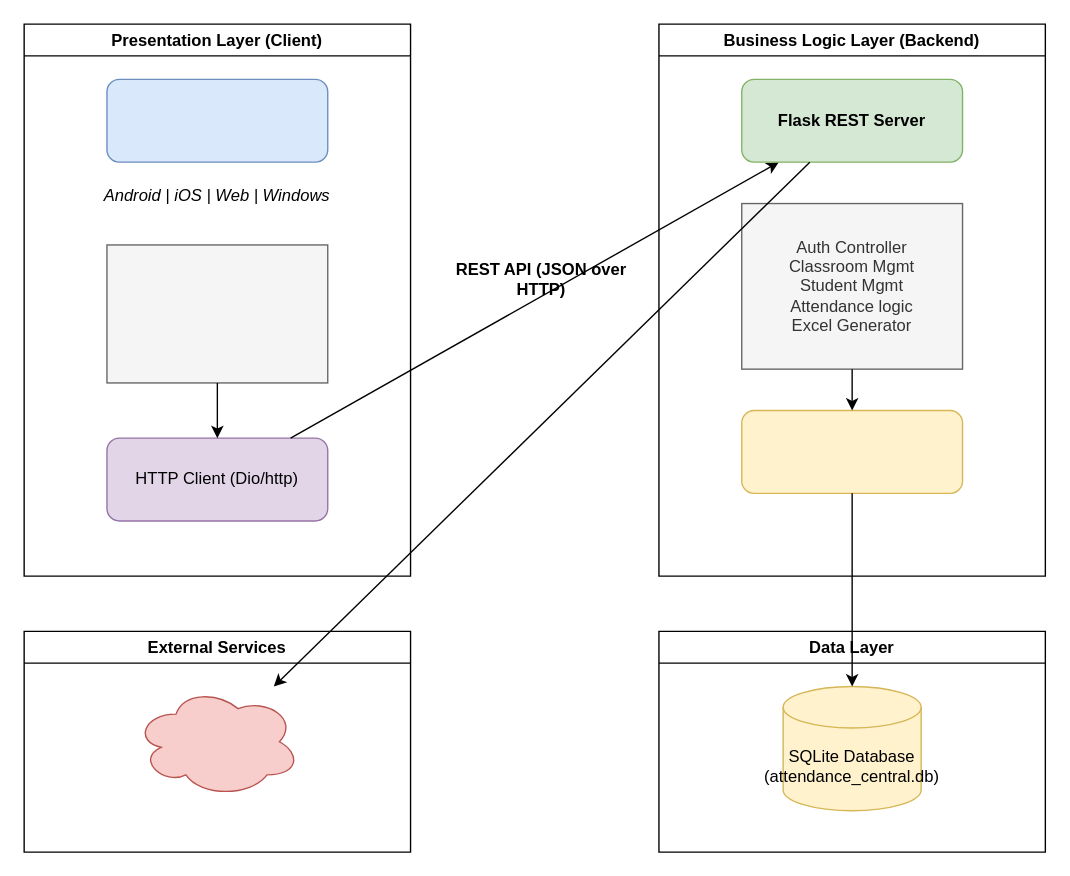
Image size: 1070x876. Some labels were removed from this diagram. Each missing label, with the centre of its shape:
Database Adapter (SQLite3 Module): pixel 851 451
Flutter Application: pixel 217 120
Gmail SMTP Server: pixel 216 741
UI Components State Management Auth Screens Reports UI: pixel 217 313
